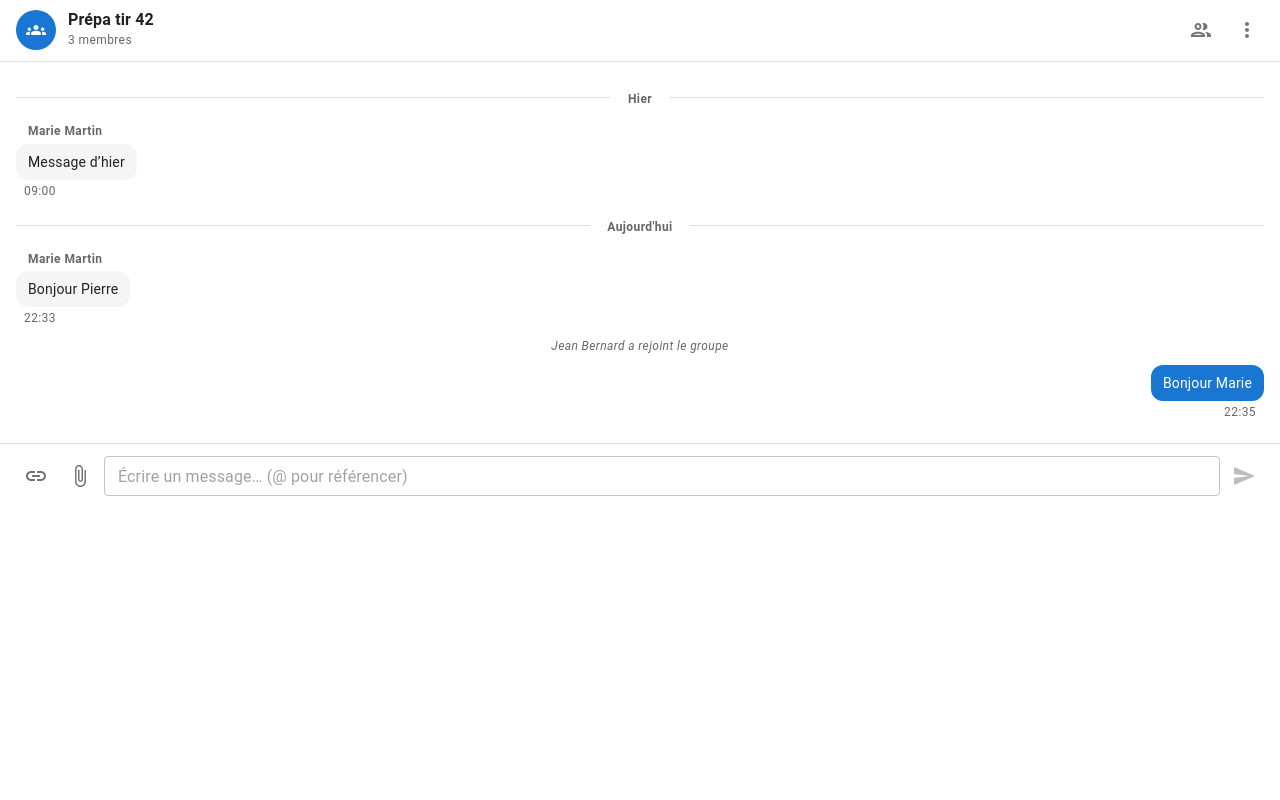
ConversationThread › « Renommer » ouvre le dialogue de renommage pré-rempli
This screenshot has width=1280, height=800.
Click the button named "Actions de la conversation" at x=1247, y=30, box top-left (1230, 13), bottom-right (1264, 47)
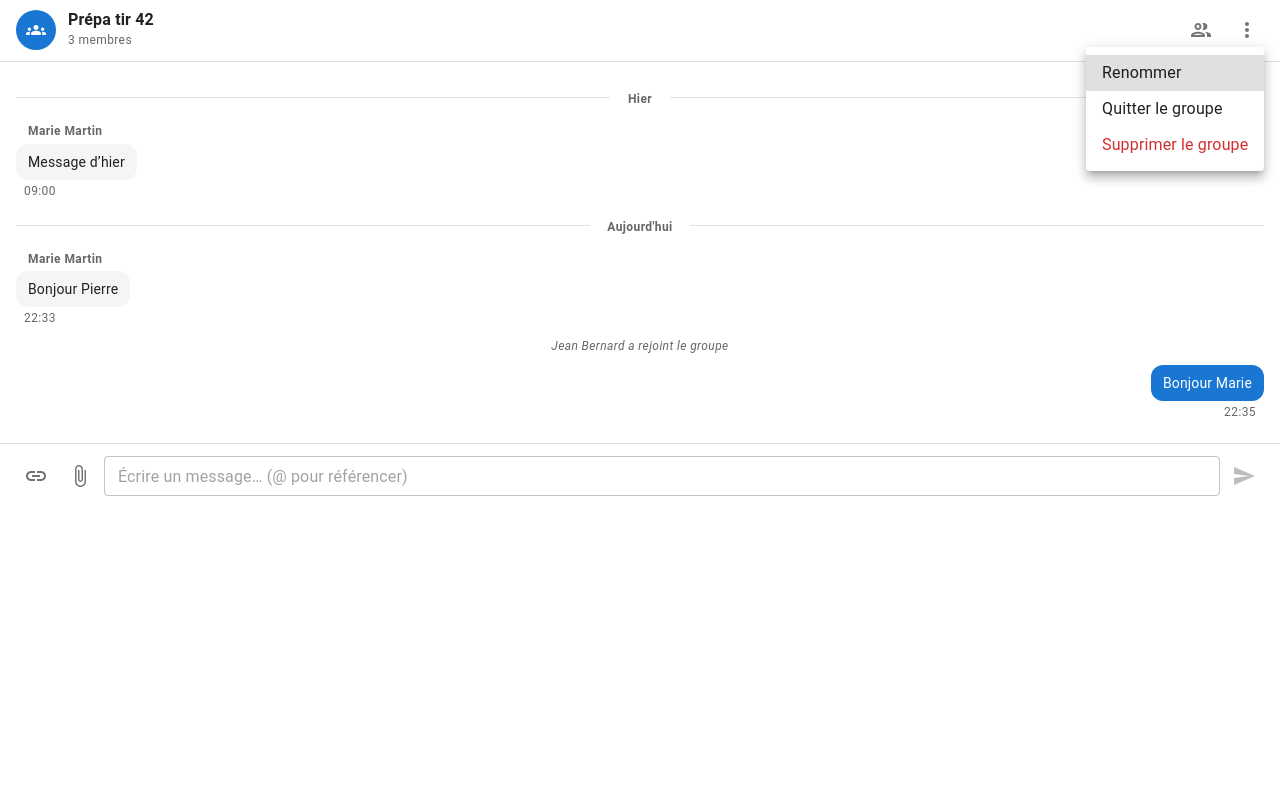
Click the menu item "Renommer" at x=1175, y=73, box top-left (1086, 55), bottom-right (1264, 91)
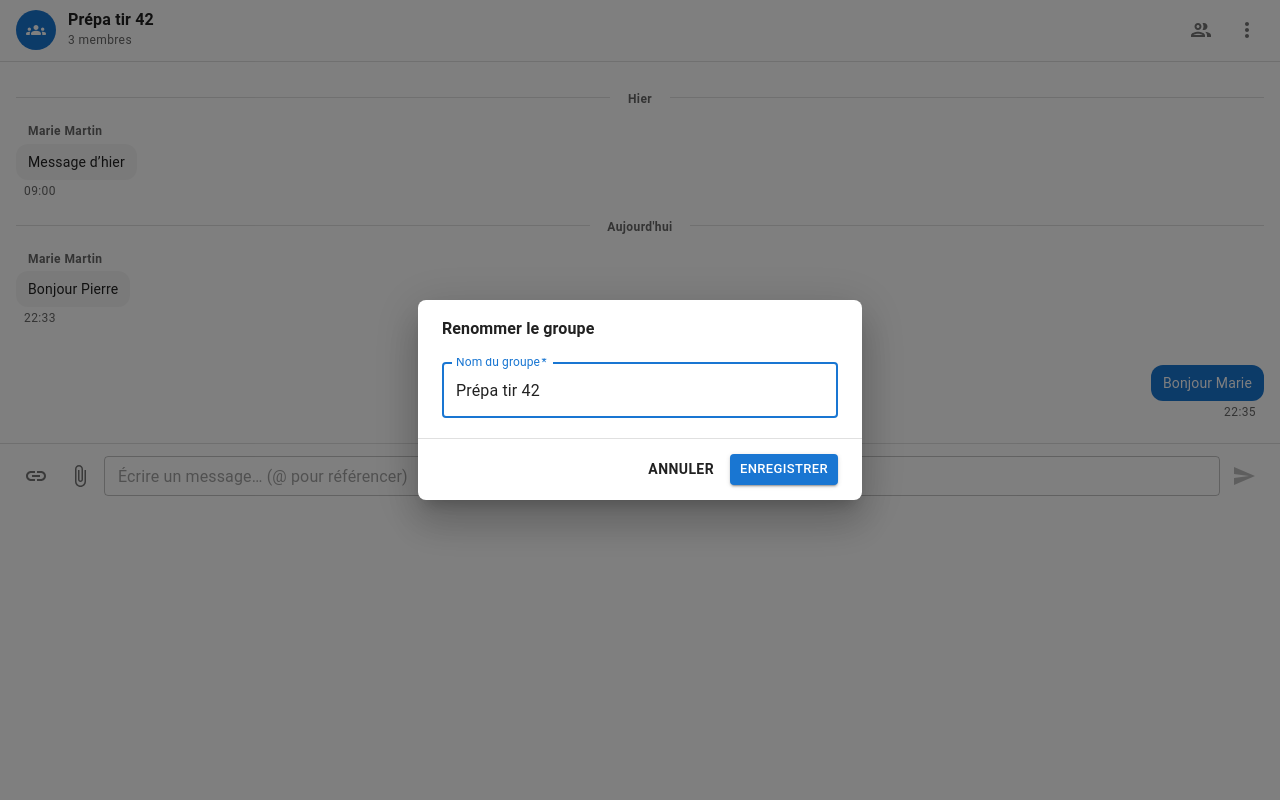
Check: the field labelled "Nom du groupe *" holds "Prépa tir 42", box top-left (442, 362), bottom-right (838, 418)
